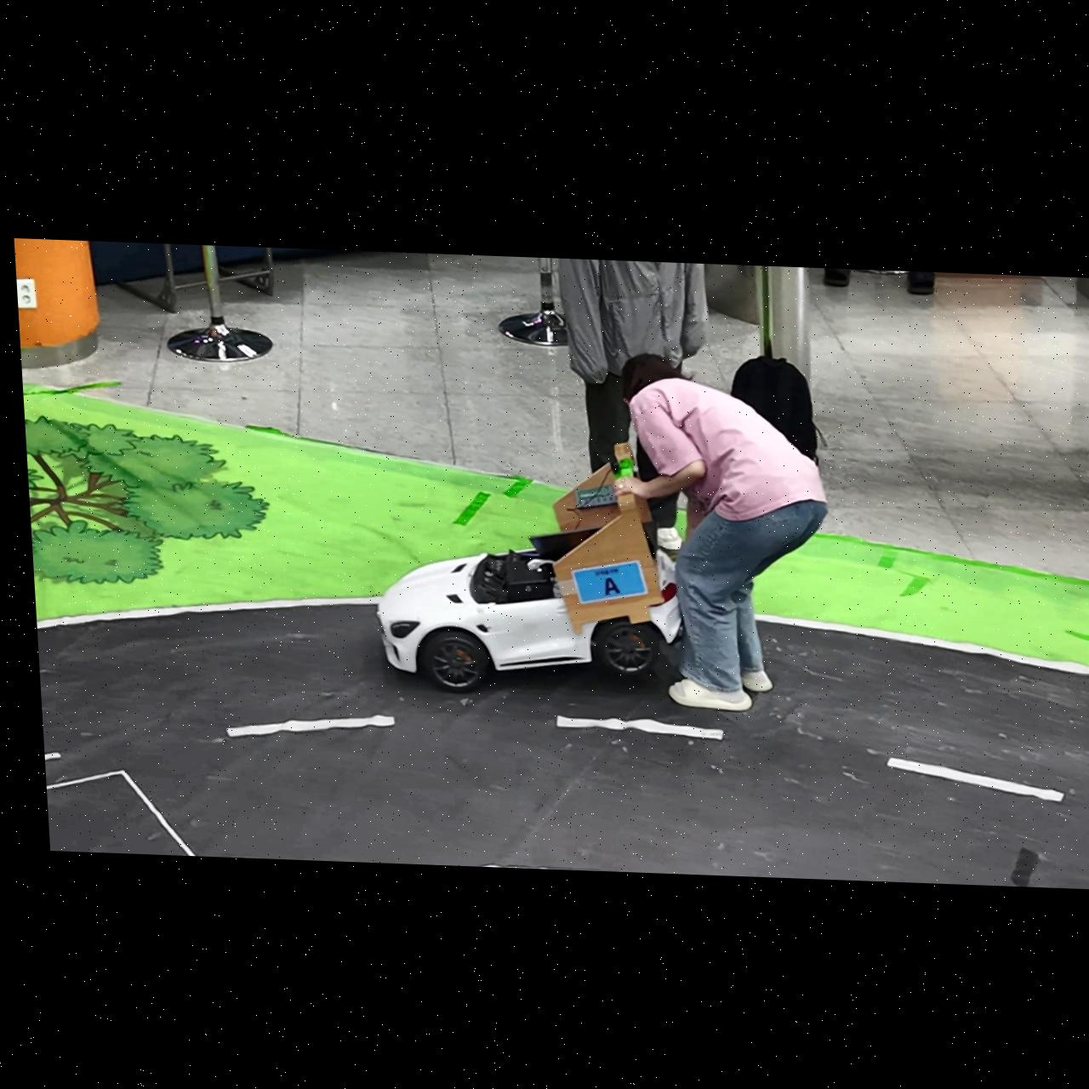broken_line: (888, 757, 1064, 802), (556, 716, 724, 740), (227, 715, 395, 738), (45, 752, 62, 761)
